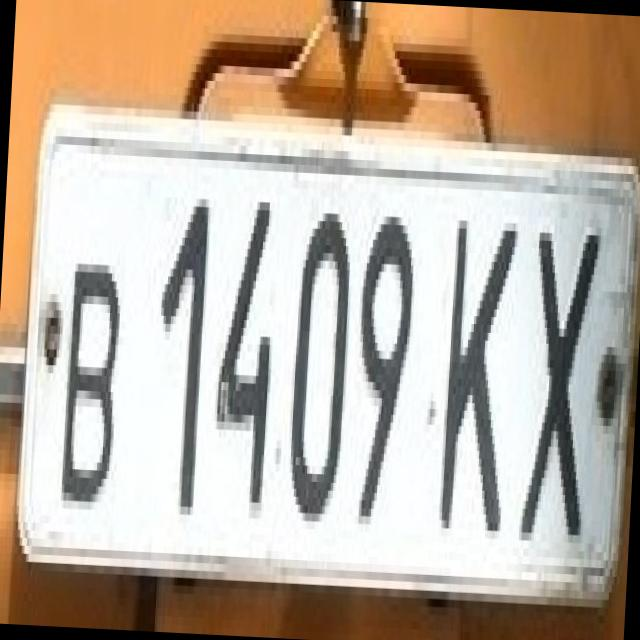0: (270, 187, 364, 524)
1: (144, 173, 217, 507)
4: (208, 177, 280, 510)
9: (334, 191, 429, 527)
B: (48, 239, 132, 503)
K: (422, 196, 527, 532)
X: (505, 200, 610, 536)
